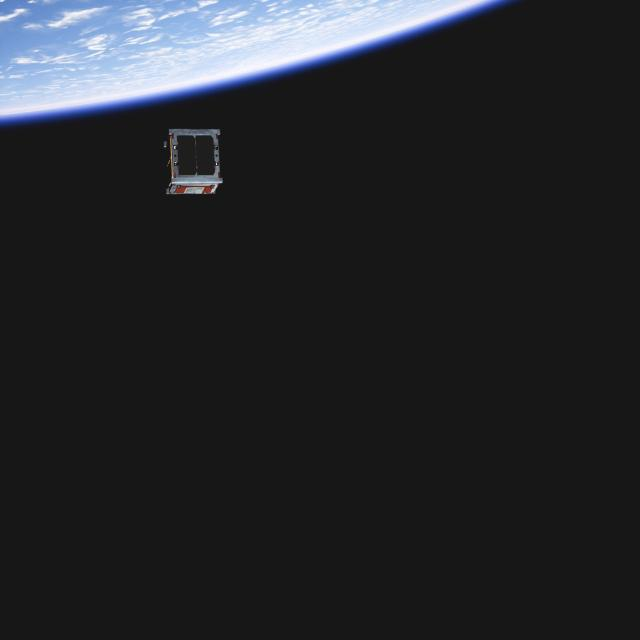satellite: (162, 114, 226, 203)
